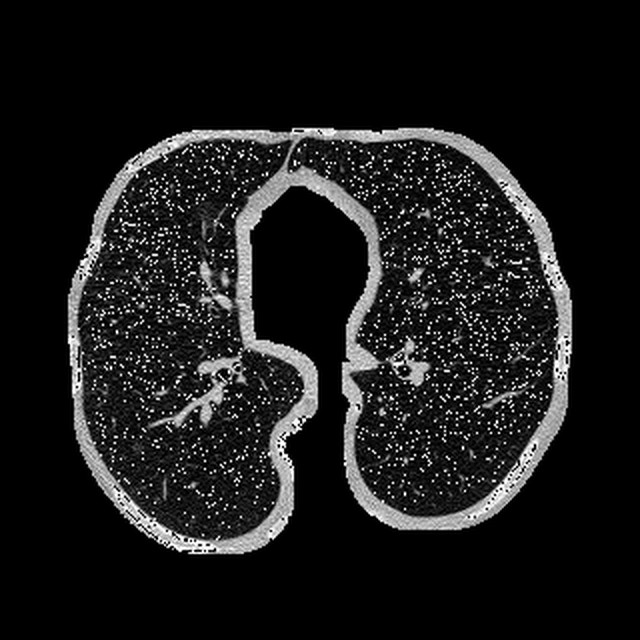PN: (132, 444, 140, 452)
